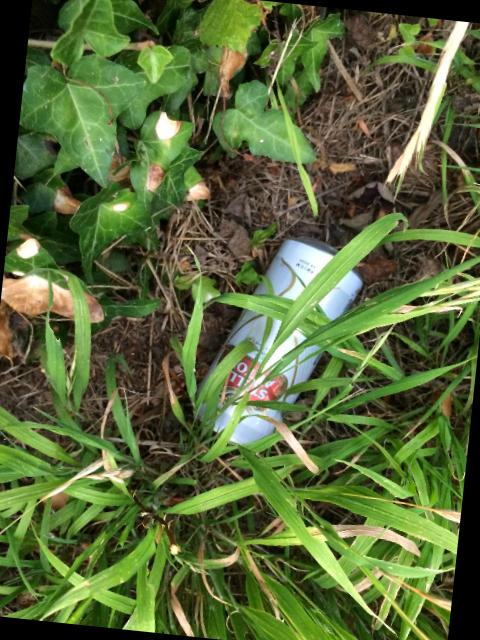metal: (193, 235, 363, 451)
